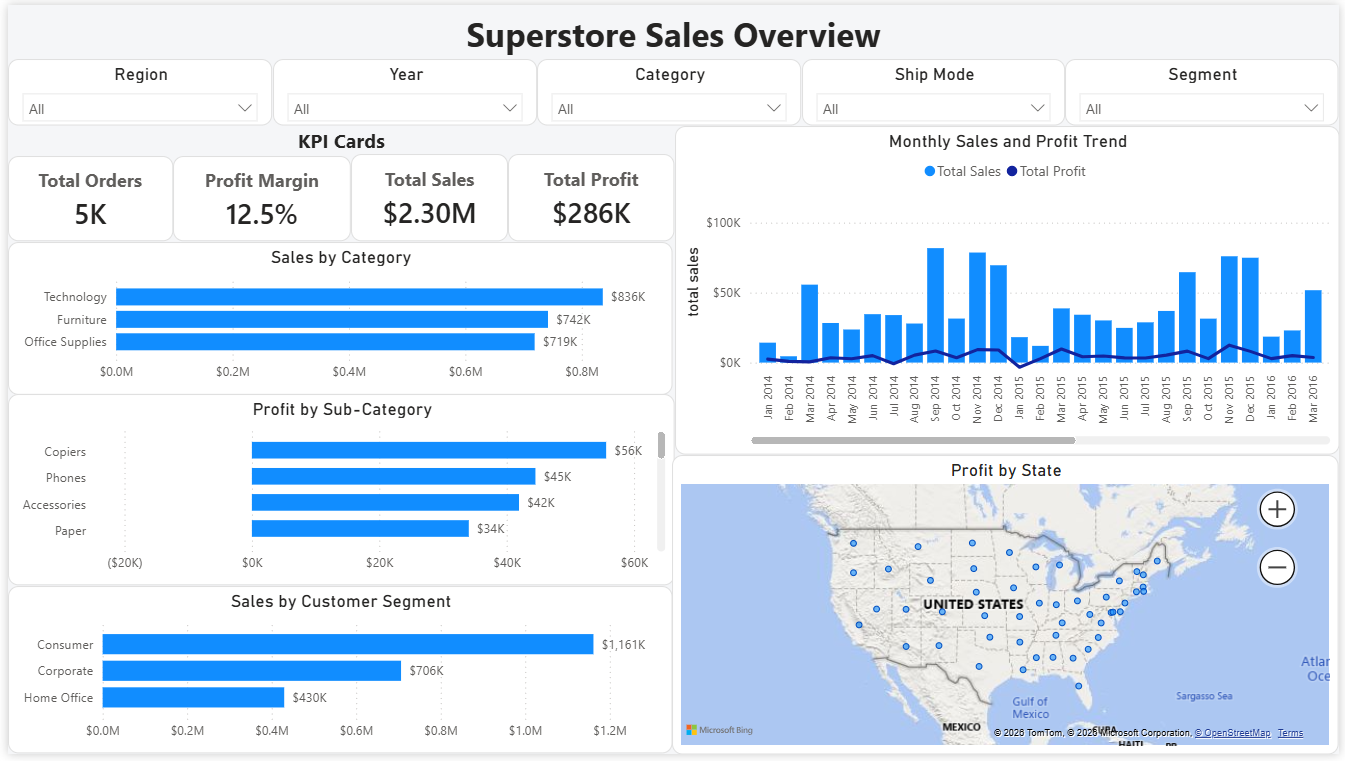

Layout of this report page (visuals, bound fields, positions):
{"tool":"powerbi","page":{"name":"Sales Overview","canvas":[1280,720],"ordinal":0},"visuals":[{"type":"textbox","box":[0,0,1280,62.2],"z":0},{"type":"cardVisual","fields":{"Data":["Key Measures.Total Sales KPI"]},"box":[330,143.3,151.1,84.4],"z":1000},{"type":"cardVisual","fields":{"Data":["Key Measures.Total Profit"]},"box":[481.1,143.3,160,84.4],"z":2000},{"type":"cardVisual","fields":{"Data":["Key Measures.Profit Margin"]},"box":[158.9,145.6,171.1,82.2],"z":3000},{"type":"cardVisual","fields":{"Data":["Key Measures.Total Orders"]},"box":[0,145.6,158.9,82.2],"z":4000},{"type":"lineClusteredColumnComboChart","title":"Monthly Sales and Profit Trend","fields":{"Y":["Key Measures.Total Sales"],"Y2":["Key Measures.Total Profit"],"Category":["Date Table.Year Month"]},"box":[641.1,116.7,638.9,315.6],"z":5000},{"type":"clusteredBarChart","title":"Sales by Category","fields":{"Category":["Superstore.Category"],"Y":["Key Measures.Total Sales"]},"box":[0,227.8,638.9,146.7],"z":6000},{"type":"clusteredBarChart","title":"Profit by Sub-Category","fields":{"Category":["Superstore.Sub-Category"],"Y":["Key Measures.Total Profit"]},"box":[0,374.4,641.1,184.4],"z":7000},{"type":"clusteredBarChart","title":"Sales by Customer Segment","fields":{"Category":["Superstore.Segment"],"Y":["Key Measures.Total Sales"]},"box":[0,558.9,638.9,161.1],"z":8000},{"type":"map","title":"Profit by State","fields":{"Category":["Superstore.State"]},"box":[638.9,432.2,641.1,287.8],"z":9000},{"type":"slicer","title":"Year","fields":{"Values":["Date Table.Year"]},"box":[254.4,52.2,254.4,64.4],"z":10000},{"type":"slicer","title":"Category","fields":{"Values":["Superstore.Category"]},"box":[508.9,52.2,254.4,64.4],"z":11000},{"type":"slicer","title":"Segment","fields":{"Values":["Superstore.Segment"]},"box":[1016.7,52.2,263.3,64.4],"z":12000},{"type":"slicer","title":"Ship Mode","fields":{"Values":["Superstore.Ship Mode"]},"box":[763.3,52.2,253.3,64.4],"z":13000},{"type":"slicer","title":"Region","fields":{"Values":["Superstore.Region"]},"box":[0,52.2,254.4,64.4],"z":14000},{"type":"textbox","box":[0,112.2,641.1,36.7],"z":15000}]}

Visuals, with their boxes in screenshot pixels (x1, y1, x2, y2), scaled from the page's 1280x720 canvas onto the 1345x761 screenshot:
textbox: 0:0:1344:66
cardVisual - Key Measures.Total Sales KPI: 347:151:506:241
cardVisual - Key Measures.Total Profit: 506:151:674:241
cardVisual - Key Measures.Profit Margin: 167:154:347:241
cardVisual - Key Measures.Total Orders: 0:154:167:241
"Monthly Sales and Profit Trend" lineClusteredColumnComboChart: 674:123:1344:457
"Sales by Category" clusteredBarChart: 0:241:671:396
"Profit by Sub-Category" clusteredBarChart: 0:396:674:591
"Sales by Customer Segment" clusteredBarChart: 0:591:671:760
"Profit by State" map: 671:457:1344:760
"Year" slicer: 267:55:535:123
"Category" slicer: 535:55:802:123
"Segment" slicer: 1068:55:1344:123
"Ship Mode" slicer: 802:55:1068:123
"Region" slicer: 0:55:267:123
textbox: 0:119:674:157
